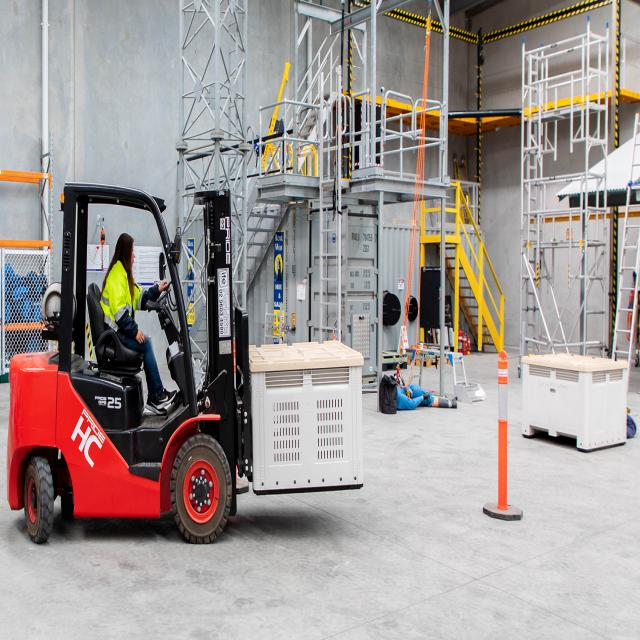Person: (100, 230, 176, 408)
